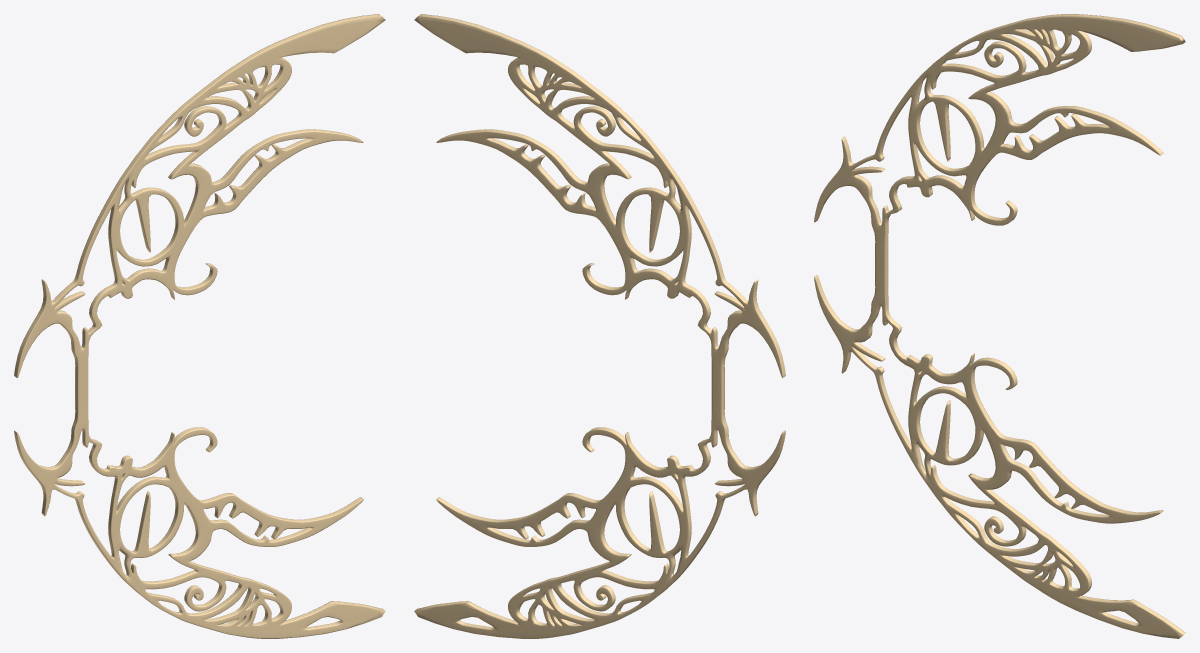
File: Preview6.glb
The picture shows the model from 3 angles, left to right: view 1: azimuth 30°, elevation 25°; view 2: azimuth 150°, elevation 25°; view 3: azimuth 330°, elevation 25°; orthographic projection.
Parts seen in each view (by area): view 1: avow; view 2: avow; view 3: avow.
Part boxes in pixels (x1,y1,x2,y2): avow: [14, 14, 385, 638]; avow: [414, 14, 785, 638]; avow: [814, 14, 1185, 638].
Size of the model in its own units: 19.95 by 31.41 by 0.3.
